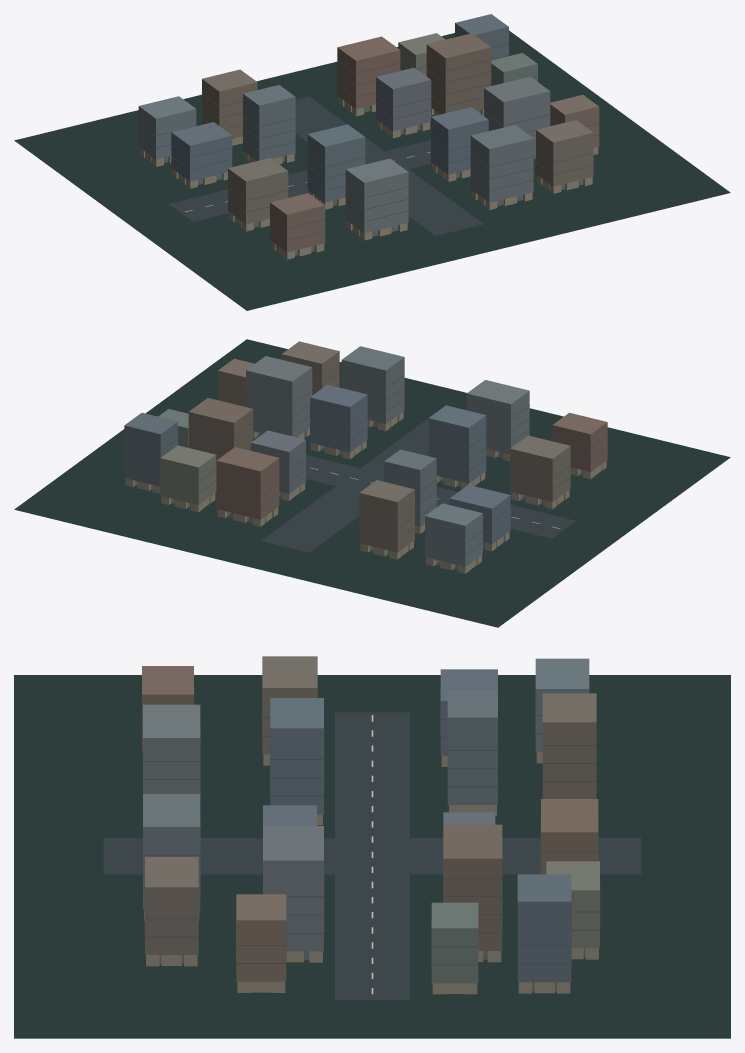
Rendered from hammer-formation-pillared-district-v1.glb.
3 renders of one model, top to bottom at view 1: azimuth 30°, elevation 25°; view 2: azimuth 150°, elevation 25°; view 3: azimuth 270°, elevation 25°, orthographic. The views are drawn at different scales.
Parts seen in each view (by area): view 1: Terrain and street markings, Main volume (×19); view 2: Terrain and street markings, Main volume (×19); view 3: Terrain and street markings, Main volume (×19).
Part boxes in pixels (box(x1,y1,x2,y2)): Terrain and street markings: box(14, 30, 730, 310); Main volume (×19): box(138, 14, 599, 252); Terrain and street markings: box(14, 339, 730, 627); Main volume (×19): box(124, 341, 607, 566); Terrain and street markings: box(14, 675, 730, 1038); Main volume (×19): box(142, 656, 600, 983).
Size of the model in its own units: 2400 by 322 by 2000.
